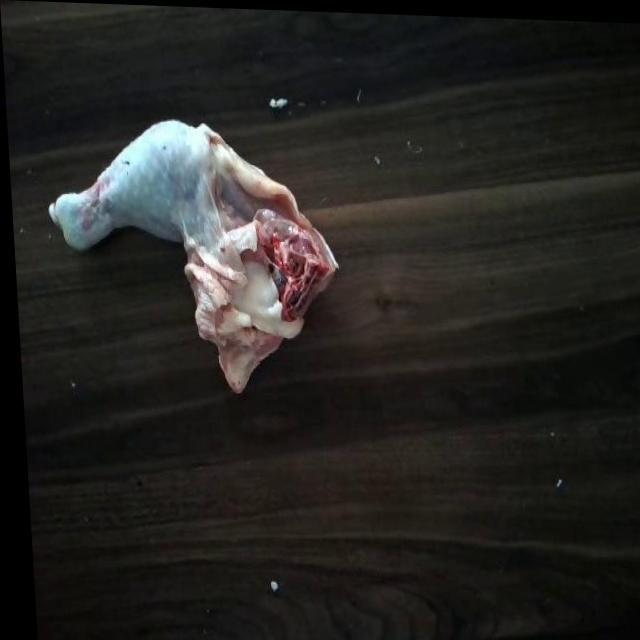quater: (35, 111, 338, 378)
